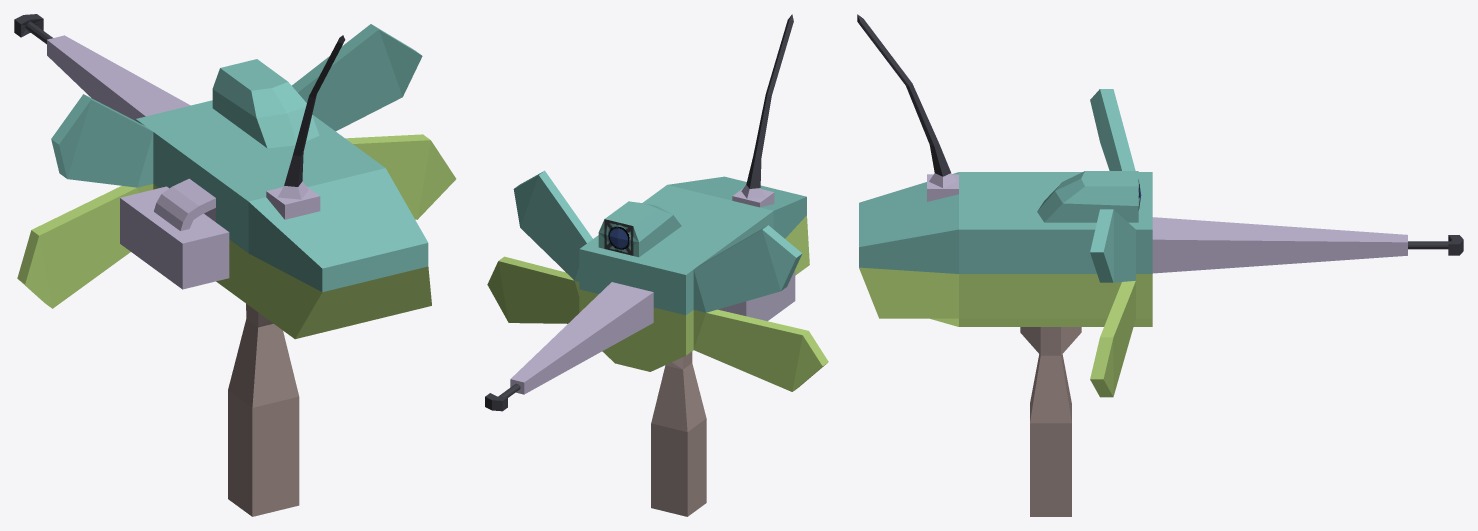
The model's file is sentryshittyindev.glb.
3 views of the same model, side by side, from view 1: azimuth 30°, elevation 25°; view 2: azimuth 150°, elevation 25°; view 3: azimuth 270°, elevation 25° (orthographic). The views are drawn at different scales.
Parts seen in each view (by area): view 1: Cube.004; view 2: Cube.004; view 3: Cube.004.
Boxes of the visible parts, x1=… form: Cube.004: x1=14, y1=14, x2=456, y2=516; Cube.004: x1=485, y1=14, x2=828, y2=516; Cube.004: x1=857, y1=14, x2=1463, y2=516.
Size of the model in its own units: 1.68 by 2.07 by 2.38.
1 material, 1 textured.
